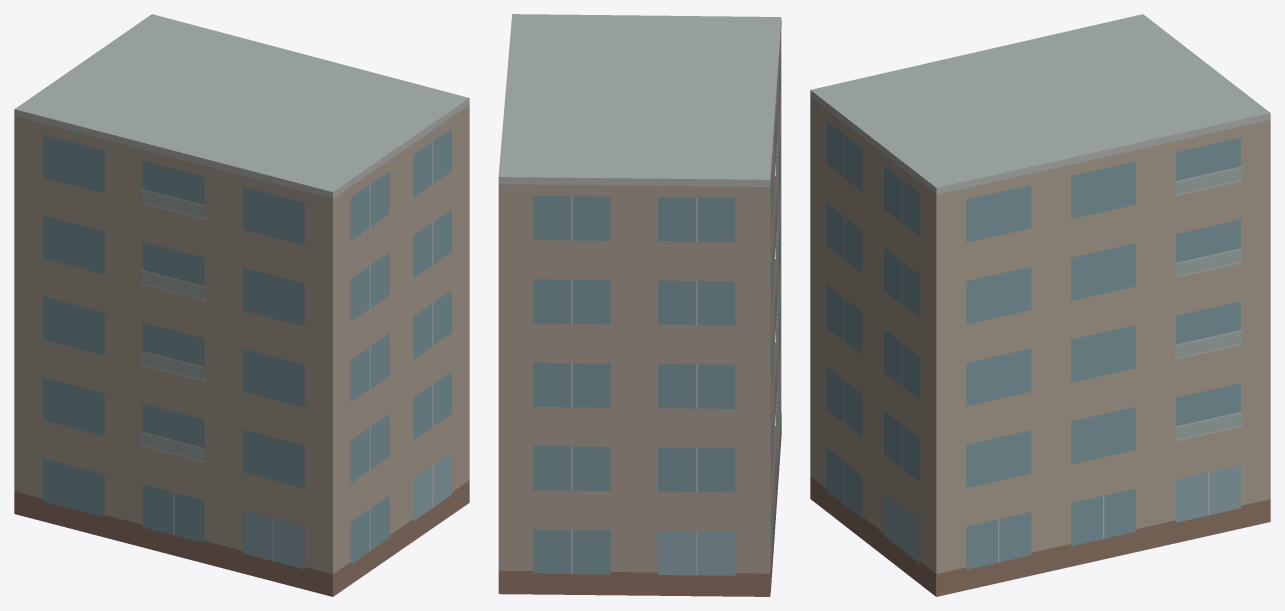
File: survey-upis-32833607.glb
The picture shows the model from 3 angles, left to right: view 1: azimuth 30°, elevation 25°; view 2: azimuth 150°, elevation 25°; view 3: azimuth 270°, elevation 25°; orthographic projection. The views are drawn at different scales.
Parts seen in each view (by area): view 1: survey-upis-32833607.tmp; view 2: survey-upis-32833607.tmp; view 3: survey-upis-32833607.tmp.
Boxes of the visible parts, left/top/right/bottom form: survey-upis-32833607.tmp: left=14, top=14, right=469, bottom=596; survey-upis-32833607.tmp: left=498, top=14, right=781, bottom=596; survey-upis-32833607.tmp: left=810, top=14, right=1270, bottom=596.
Bounding box in the file's own units: 13.06 × 14.3 × 14.6.
